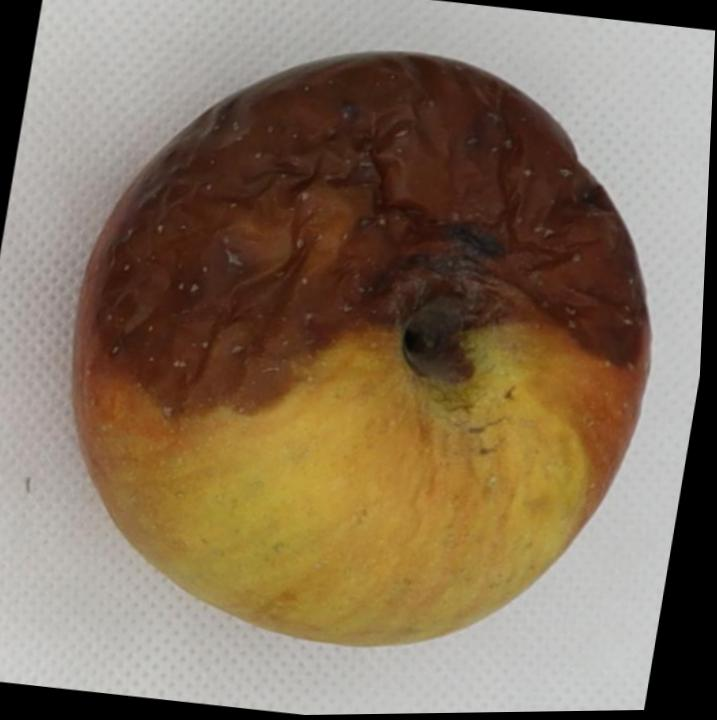apple: (73, 53, 649, 645)
rot_mold_decay: (78, 53, 648, 414)
